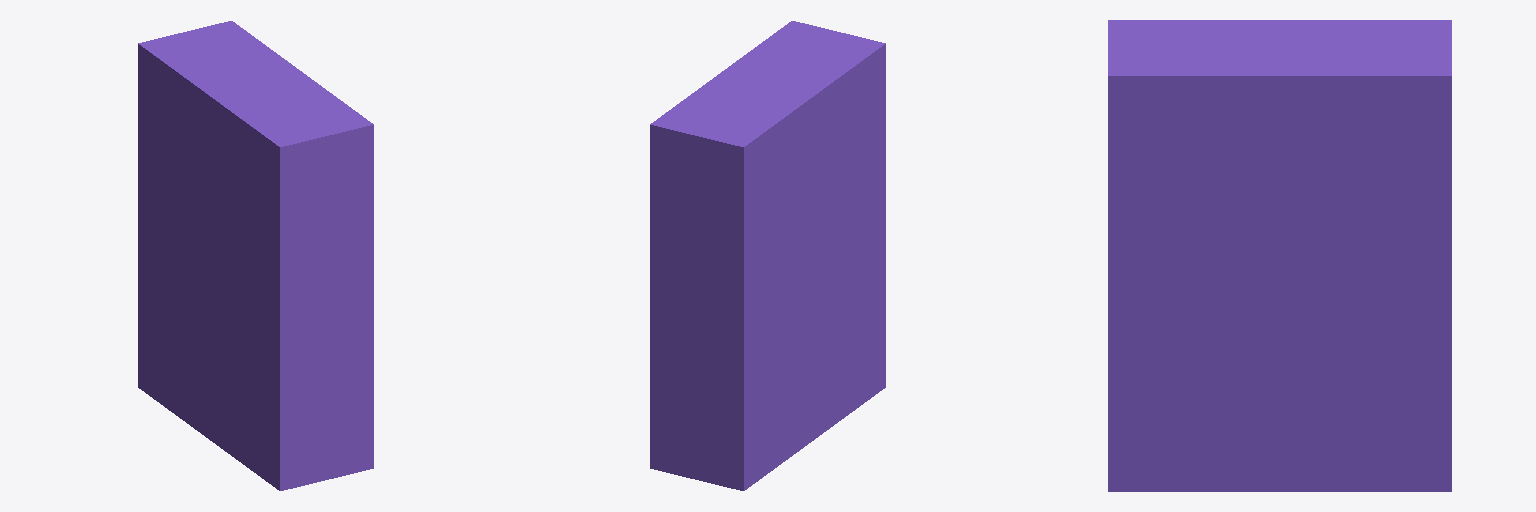
robot.urdf — cube:
<?xml version="1.0"?>
 <robot name="cube">
   <material name="purple">
     <color rgba="0.57647059 0.43921569 0.85882353 1"/>
   </material>
   <link name="base_link">
     <visual>
       <geometry>
         <box size="0.16 0.21343700408935547 0.061"/>
       </geometry>
       <material name="purple"/>
       <origin xyz="0 0 0" rpy="1.5707963 0 1.5707963"/>
     </visual>
     <inertial>
       <mass value="0"/>
       <inertia ixx="1.0" ixy="0.0" ixz="0.0" iyy="1.0" iyz="0.0" izz="1.0"/>
     </inertial>
   </link>
 </robot>

--- Render facts (derived) ---
The picture shows the robot from 3 angles, left to right: view 1: azimuth 30°, elevation 25°; view 2: azimuth 150°, elevation 25°; view 3: azimuth 270°, elevation 25°; orthographic projection.
Model cube with 1 links and 0 joints (none), rooted at base_link, posed every joint at zero.
Links seen in each view (by area): view 1: base_link; view 2: base_link; view 3: base_link.
Link boxes in pixels (<box>): base_link: <box>138,21,373,490</box>; base_link: <box>650,21,885,490</box>; base_link: <box>1108,20,1451,491</box>.
Size in the robot's own frame: 0.061 by 0.16 by 0.2134 metres.
Geometry: primitives only (box / cylinder / sphere), no mesh files.